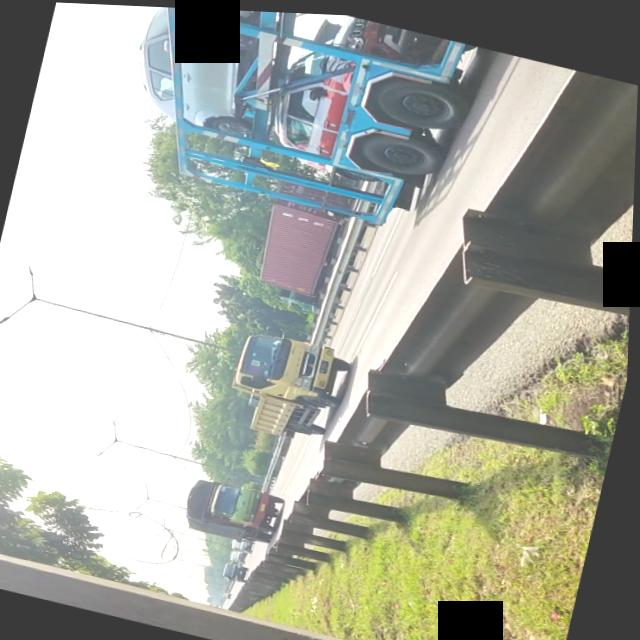Golongan II: (221, 317, 361, 449)
